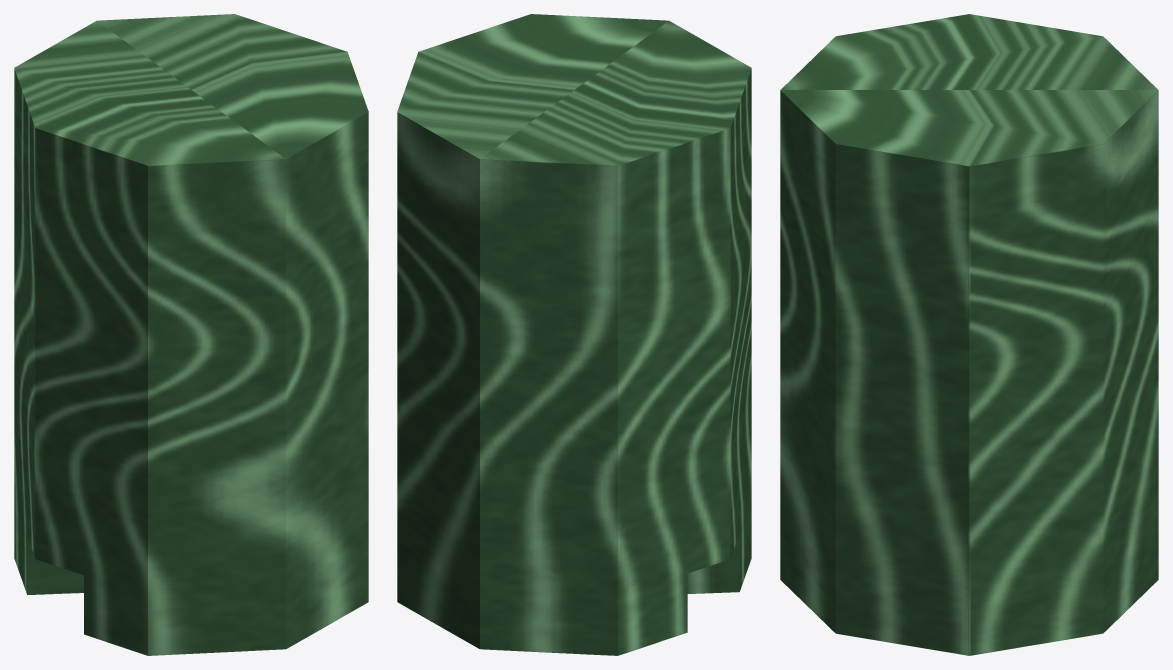
File: wall.glb
3 views of the same model, side by side, from view 1: azimuth 30°, elevation 25°; view 2: azimuth 150°, elevation 25°; view 3: azimuth 270°, elevation 25° (orthographic).
Visible parts, largest first — view 1: geometry_0; view 2: geometry_0; view 3: geometry_0.
Boxes of the visible parts, x1,y1,x2,y2 form: geometry_0: [14, 14, 368, 655]; geometry_0: [397, 14, 751, 655]; geometry_0: [780, 14, 1158, 655].
Bounding box in the file's own units: 0.7162 × 1.07 × 0.752.
1 material, 1 textured.
